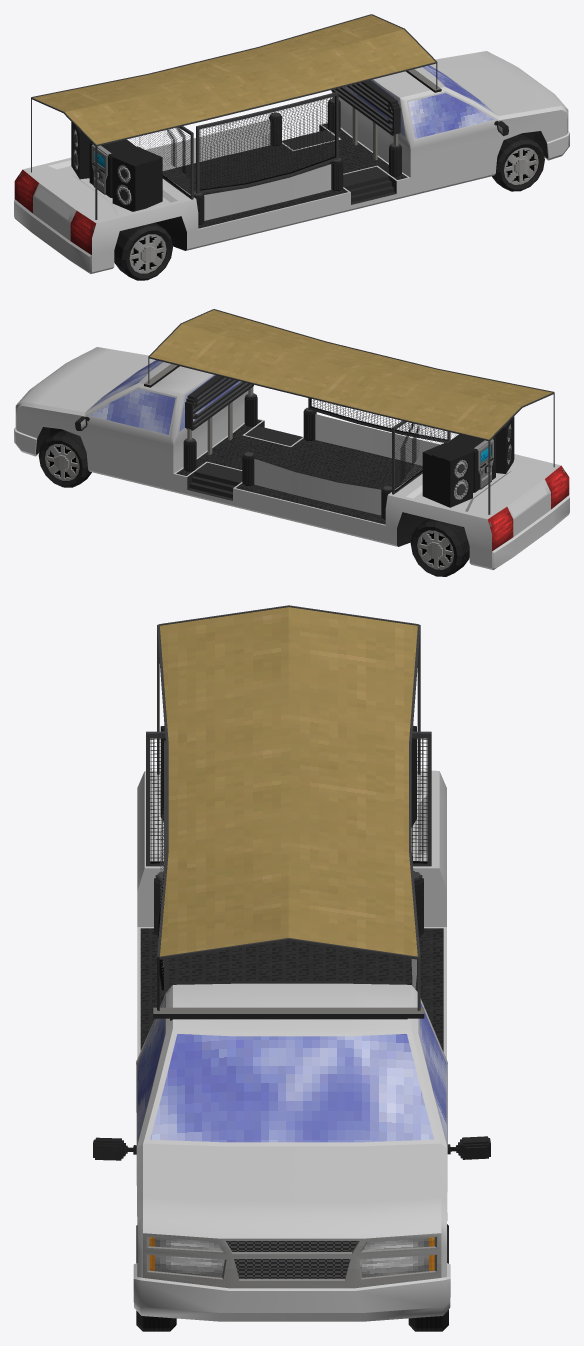
The model's file is FunXtremeTruck.fbx.
The picture shows the model from 3 angles, top to bottom: view 1: azimuth 30°, elevation 25°; view 2: azimuth 150°, elevation 25°; view 3: azimuth 270°, elevation 25°; orthographic projection. The views are drawn at different scales.
Parts seen in each view (by area): view 1: FunXtremeTruck, Onning, HighNet, LowNet, Door_R, Netting, Tire_RR, Subwoofer, Glass_2, Tire_FR, CD_Stereo, Plane_3 (+3 smaller); view 2: FunXtremeTruck, Onning, LowNet, Door_L, Netting, Tire_RL, Subwoofer_2, Glass_3, Tire_FL, HighNet, CD_Stereo, Plane_3 (+4 smaller); view 3: FunXtremeTruck, Onning, Windshield, RoofMount, Plane_3, Netting, BackNet, Glass_2, Glass_3.
Part boxes in pixels (bbox=[...]): FunXtremeTruck: bbox=[14, 51, 569, 273]; Onning: bbox=[31, 14, 437, 219]; HighNet: bbox=[196, 92, 338, 193]; LowNet: bbox=[145, 119, 331, 220]; Door_R: bbox=[406, 91, 499, 193]; Netting: bbox=[137, 80, 401, 224]; Tire_RR: bbox=[114, 222, 172, 280]; Subwoofer: bbox=[112, 148, 162, 211]; Glass_2: bbox=[408, 93, 494, 138]; Tire_FR: bbox=[492, 135, 544, 191]; CD_Stereo: bbox=[89, 139, 138, 197]; Plane_3: bbox=[128, 127, 190, 195]; FunXtremeTruck: bbox=[14, 347, 569, 569]; Onning: bbox=[148, 309, 554, 514]; LowNet: bbox=[254, 414, 439, 515]; Door_L: bbox=[84, 387, 177, 489]; Netting: bbox=[183, 375, 444, 519]; Tire_RL: bbox=[410, 518, 469, 576]; Subwoofer_2: bbox=[422, 442, 472, 507]; Glass_3: bbox=[90, 389, 175, 434]; Tire_FL: bbox=[38, 431, 91, 487]; HighNet: bbox=[308, 398, 450, 442]; CD_Stereo: bbox=[447, 434, 495, 492]; Plane_3: bbox=[395, 423, 457, 490]; FunXtremeTruck: bbox=[133, 770, 450, 1321]; Onning: bbox=[157, 605, 420, 1010]; Windshield: bbox=[150, 1034, 434, 1142]; RoofMount: bbox=[153, 1007, 424, 1020]; Plane_3: bbox=[150, 738, 427, 862]; Netting: bbox=[154, 871, 423, 1019]; BackNet: bbox=[146, 731, 431, 866]; Glass_2: bbox=[137, 1000, 164, 1139]; Glass_3: bbox=[419, 1002, 446, 1140].
Bounding box in the file's own units: 437 × 133 × 154.
